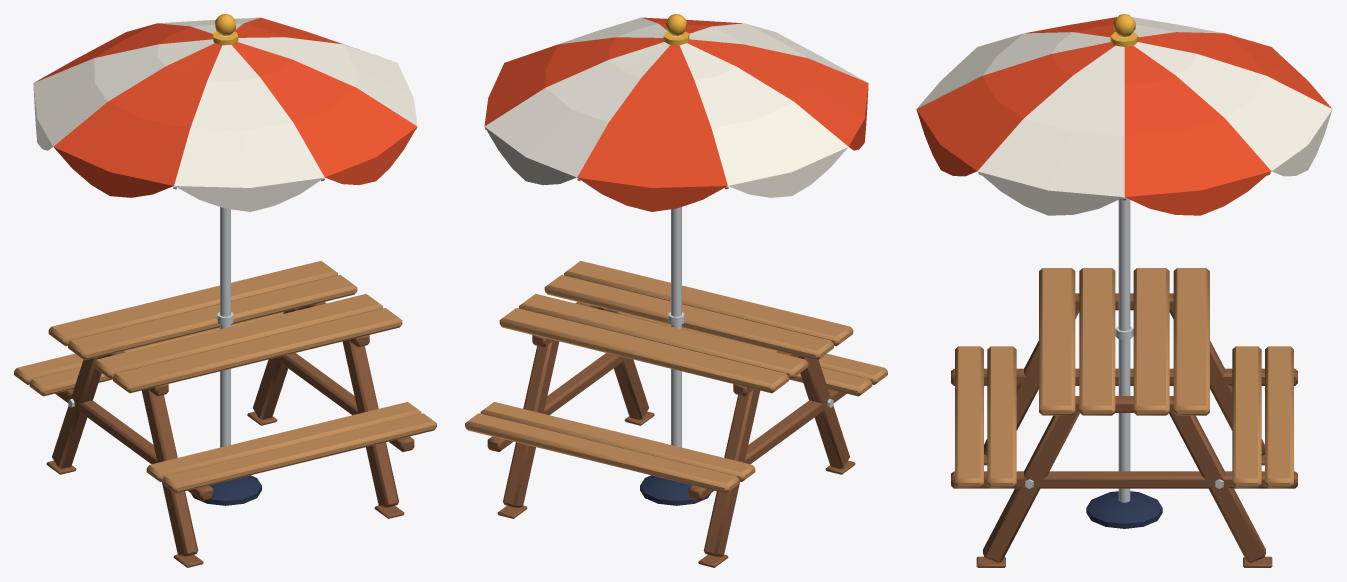
File: Lobby_PicnicTable.fbx
3 renders of one model, left to right at view 1: azimuth 30°, elevation 25°; view 2: azimuth 150°, elevation 25°; view 3: azimuth 270°, elevation 25°, orthographic. The views are drawn at different scales.
Parts seen in each view (by area): view 1: Planks, CanopyRed, CanopyCream, Frame, Chrome, UmbrellaBase, Finial; view 2: Planks, CanopyCream, CanopyRed, Frame, Chrome, UmbrellaBase, Finial; view 3: Planks, CanopyCream, CanopyRed, Frame, Chrome, UmbrellaBase, Finial.
Boxes of the visible parts, box(x1,y1,x2,y2) form: Planks: box(14, 261, 436, 493); CanopyRed: box(35, 17, 417, 197); CanopyCream: box(33, 17, 417, 211); Frame: box(46, 302, 414, 567); Chrome: box(68, 35, 324, 447); UmbrellaBase: box(191, 475, 261, 505); Finial: box(212, 14, 238, 45); Planks: box(465, 261, 887, 493); CanopyCream: box(484, 17, 866, 197); CanopyRed: box(484, 17, 868, 211); Frame: box(487, 302, 855, 567); Chrome: box(577, 35, 833, 447); UmbrellaBase: box(640, 475, 710, 505); Finial: box(663, 14, 689, 45); Planks: box(955, 268, 1293, 488); CanopyCream: box(917, 17, 1332, 215); CanopyRed: box(916, 17, 1331, 215); Frame: box(951, 293, 1297, 567); Chrome: box(978, 36, 1270, 502); UmbrellaBase: box(1086, 491, 1162, 528); Finial: box(1110, 14, 1138, 46).
Size of the model in its own units: 600 by 792 by 600.
